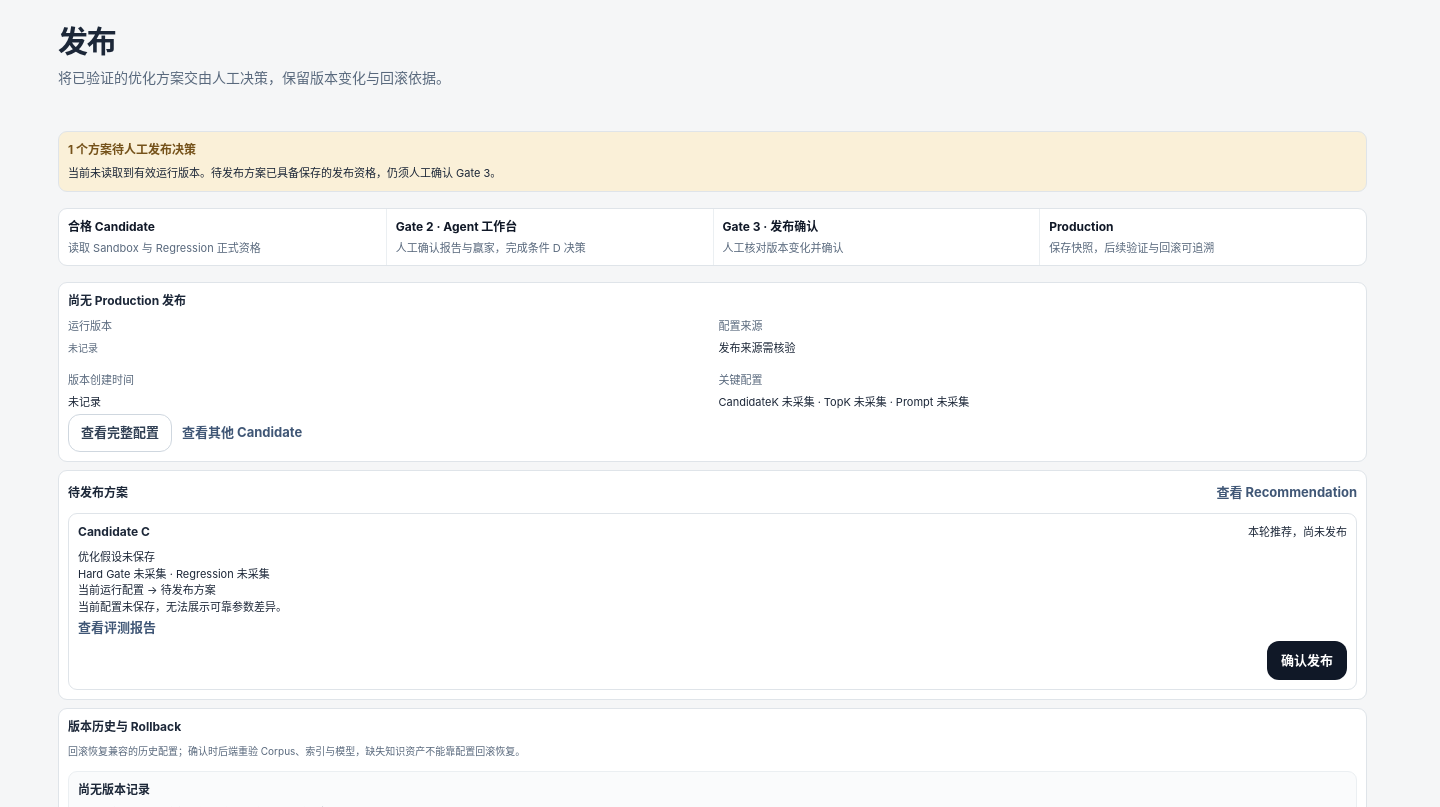
Test: keeps other candidates in A/B/C/D order inside a Drawer and never offers an unqualified release
Step 1. Click the button "查看其他 Candidate" → (242, 433), box 182,420 -> 302,446
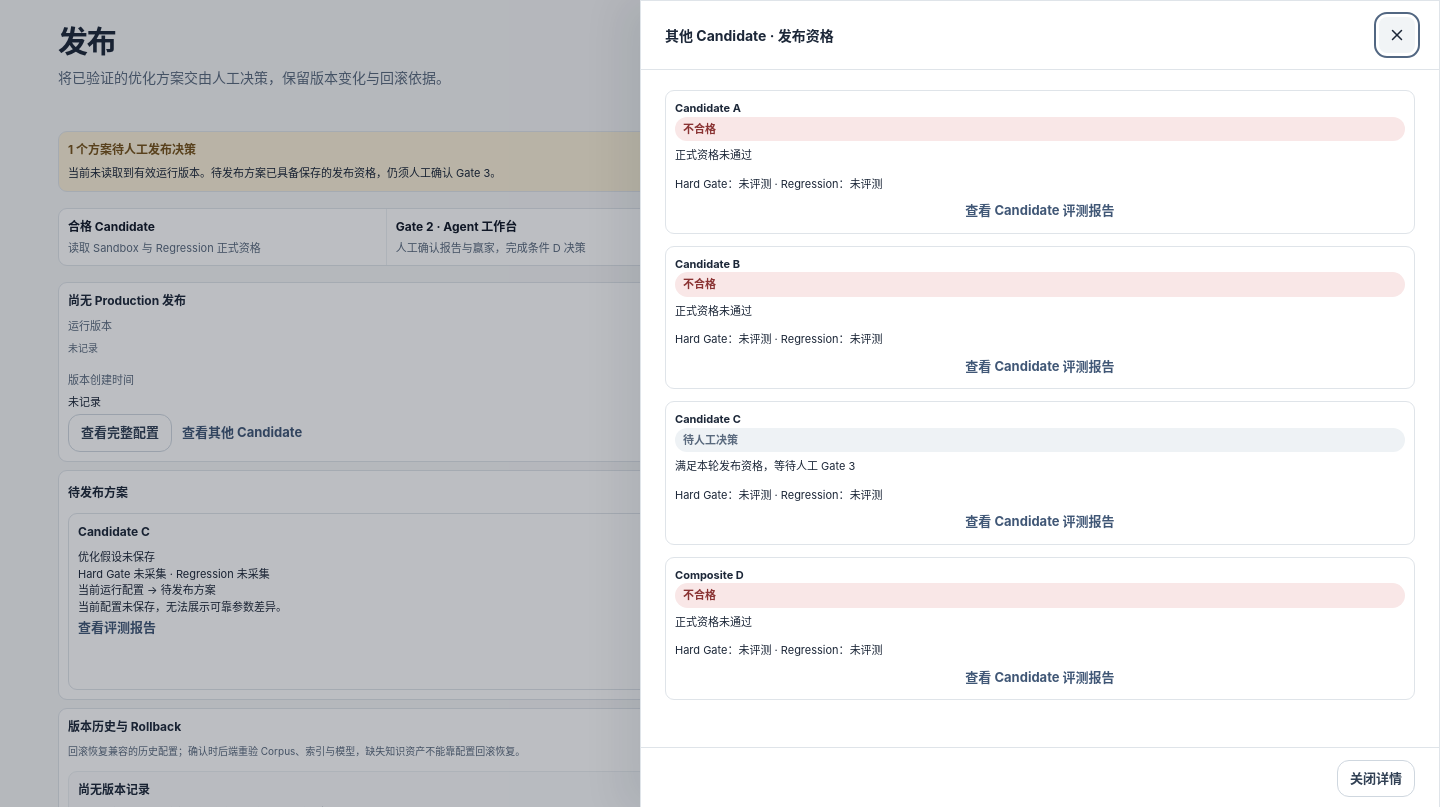
Check: the dialog with class "drawer" shows "不合格", box 683,122 -> 716,136
